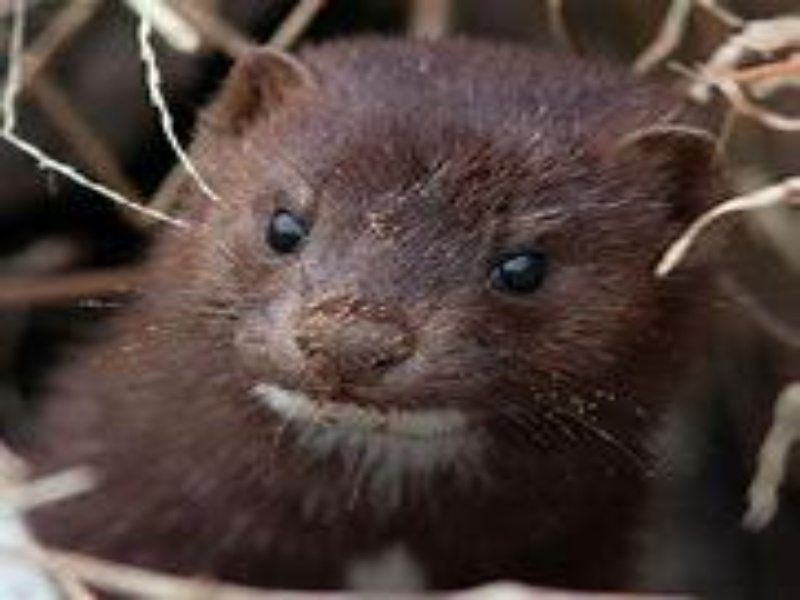minkish: (35, 35, 726, 587)
